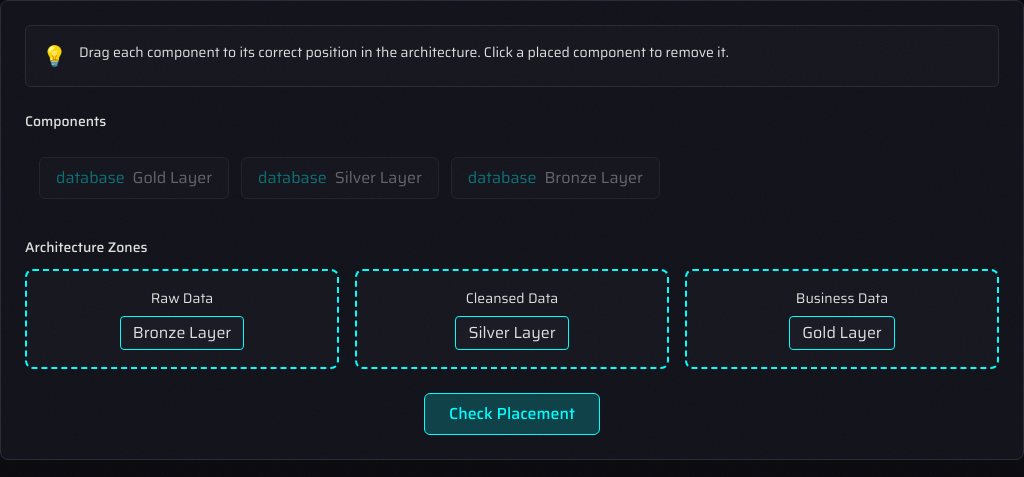
Test case: ArchitectureDiagram › shows success feedback with neon glow for correct placement
Step 1. Click the button "Check Placement" → coordinates (512, 414), box [424, 393, 600, 435]
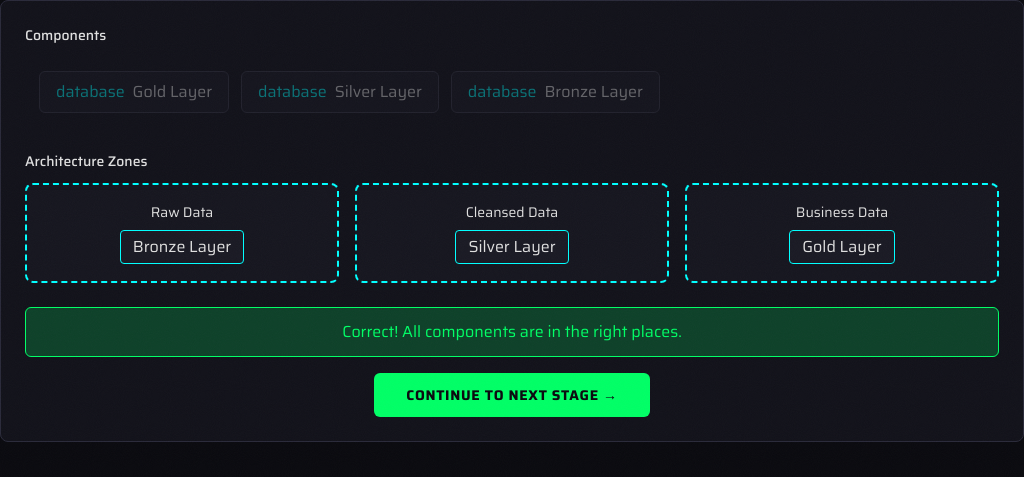
expect the text "Correct! All components are in the right places." is shown: met, box [25, 307, 999, 357]
